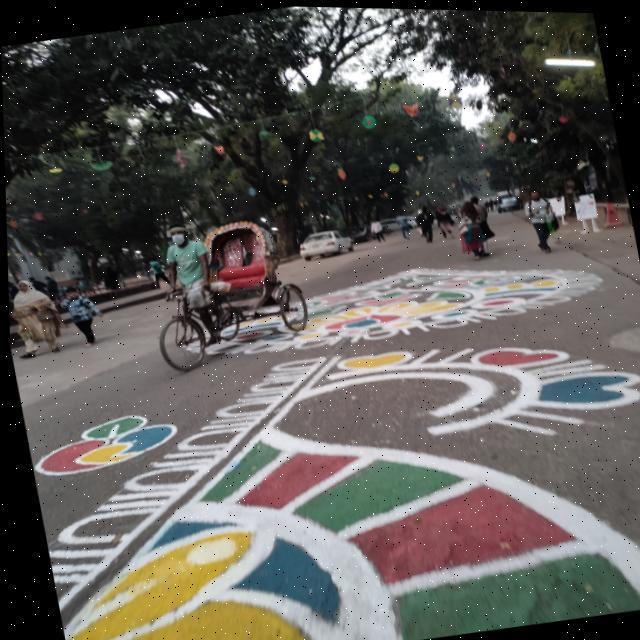rikshaw: (114, 196, 353, 394)
